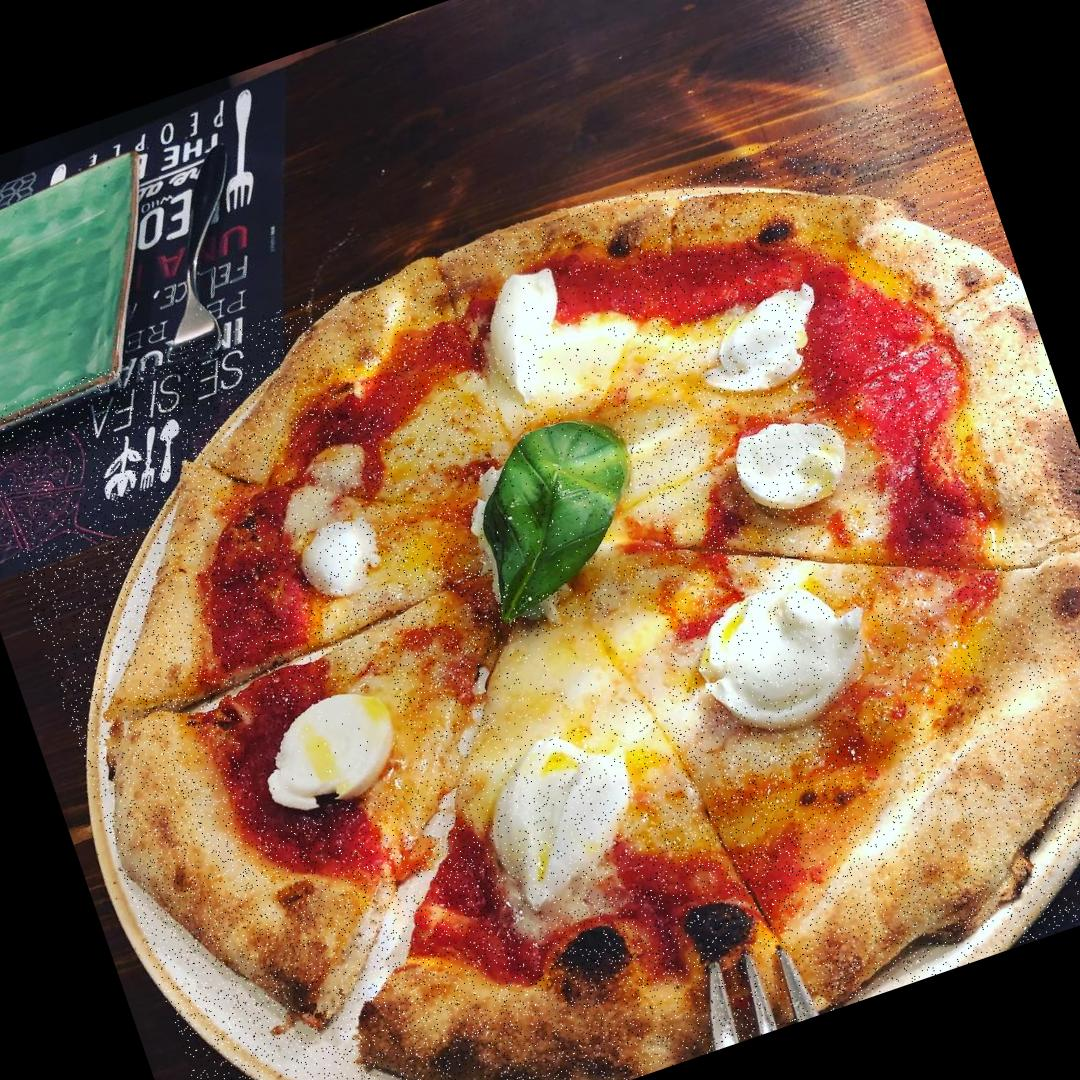Basil: (454, 406, 664, 609)
Cheese: (461, 704, 674, 929), (674, 556, 900, 760), (464, 237, 646, 416), (235, 674, 424, 832), (476, 598, 678, 743), (681, 274, 856, 420), (712, 399, 871, 536), (608, 361, 740, 523), (252, 436, 393, 556), (288, 505, 398, 615)
Pizza: (0, 79, 1080, 1080)
